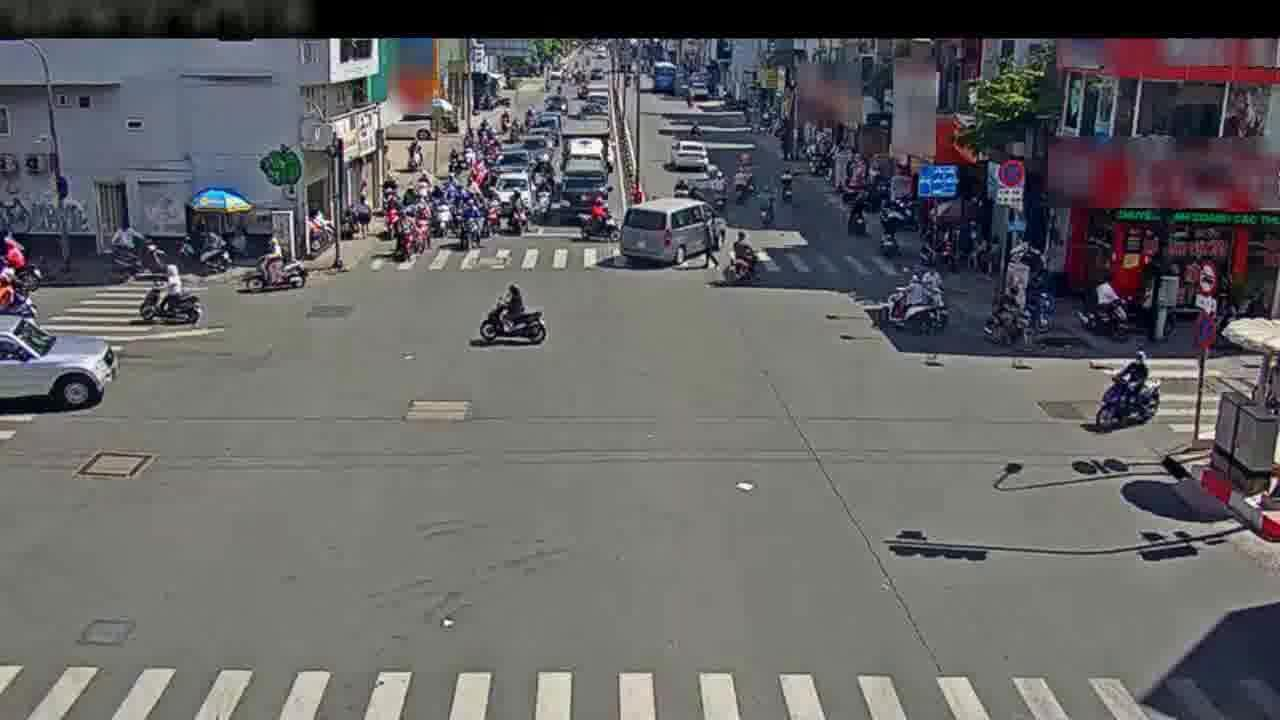container: (0, 314, 119, 410), (621, 199, 724, 266)
motorbike: (1090, 356, 1163, 431), (474, 279, 547, 349), (878, 270, 952, 338), (131, 261, 202, 329), (241, 235, 307, 299), (986, 291, 1040, 354), (721, 230, 769, 287), (183, 228, 229, 274), (388, 202, 421, 264), (578, 190, 611, 242), (876, 207, 907, 262), (499, 187, 529, 243), (450, 196, 479, 253), (841, 190, 868, 242), (703, 174, 729, 215), (754, 183, 776, 229), (734, 163, 755, 206), (777, 162, 796, 206), (431, 191, 450, 235)
